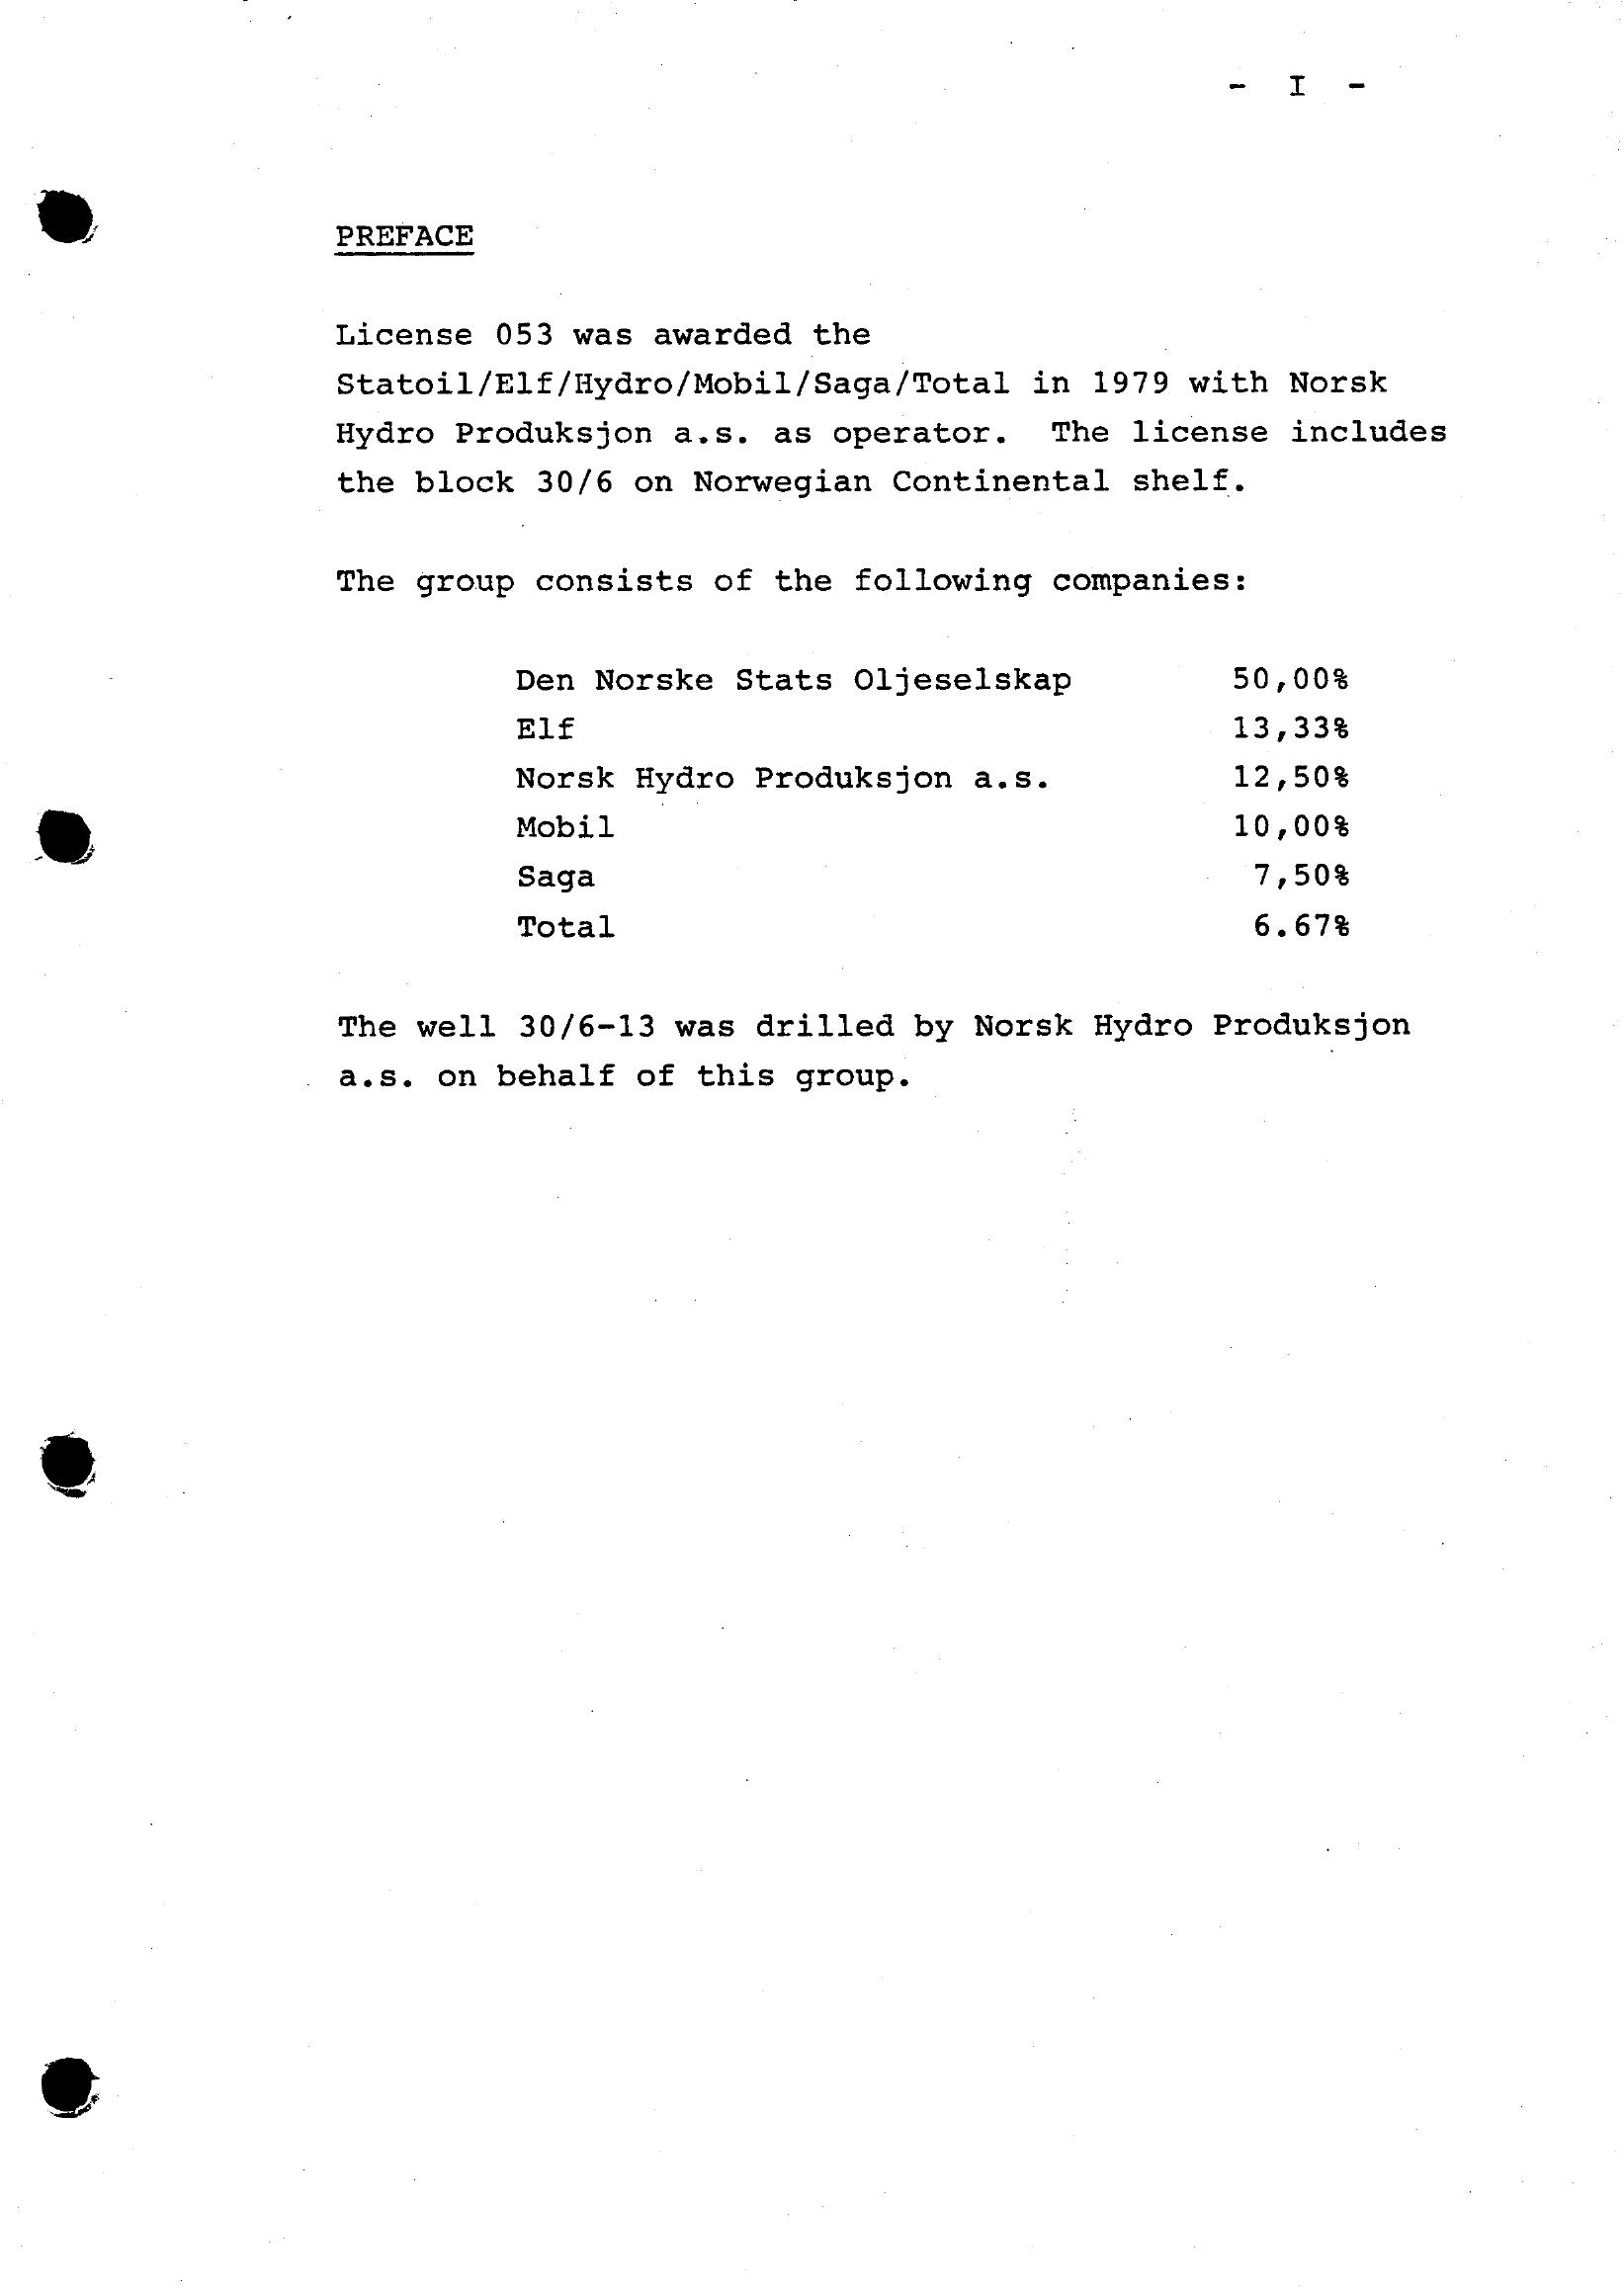text: (227, 190, 1527, 1151)
